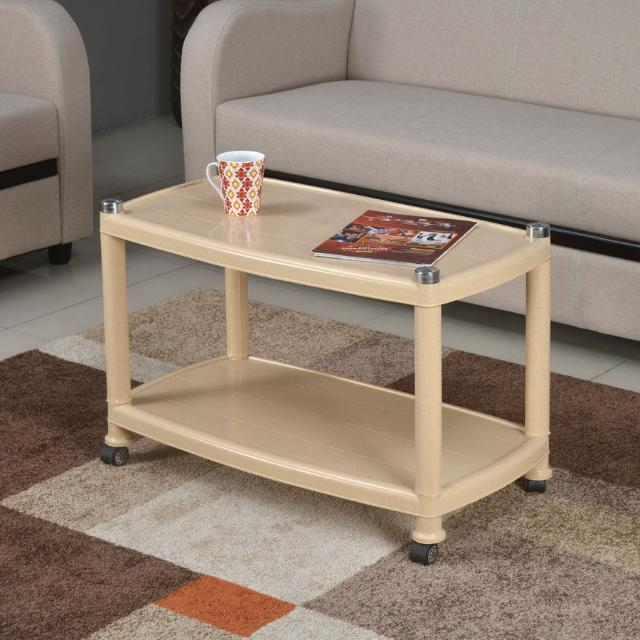obstacle: (30, 138, 618, 566)
